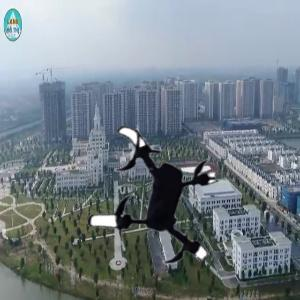drone: (71, 120, 230, 279)
